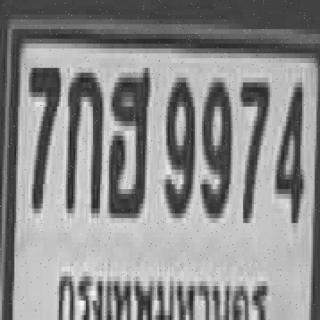A01: (64, 68, 100, 208)
A44: (107, 63, 148, 213)
N04: (274, 78, 302, 218)
N07: (27, 63, 59, 208), (240, 78, 268, 218)
N09: (199, 73, 230, 213), (163, 73, 193, 213)
P04: (54, 265, 272, 320)
